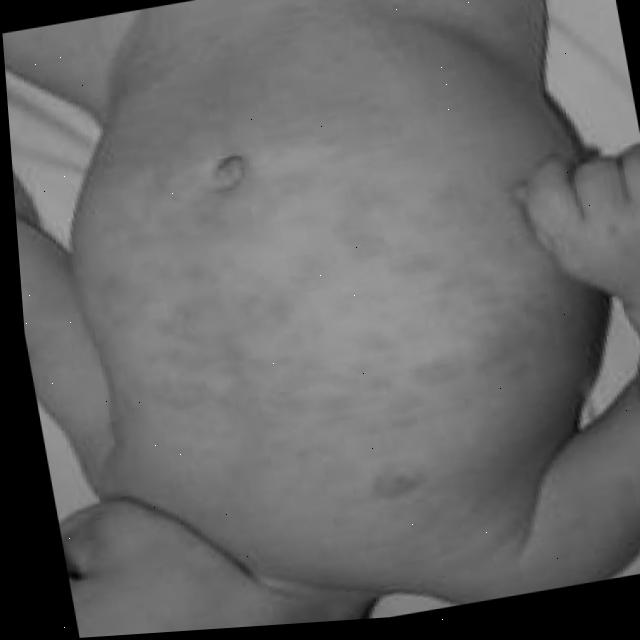Eczema: (88, 29, 559, 538)
